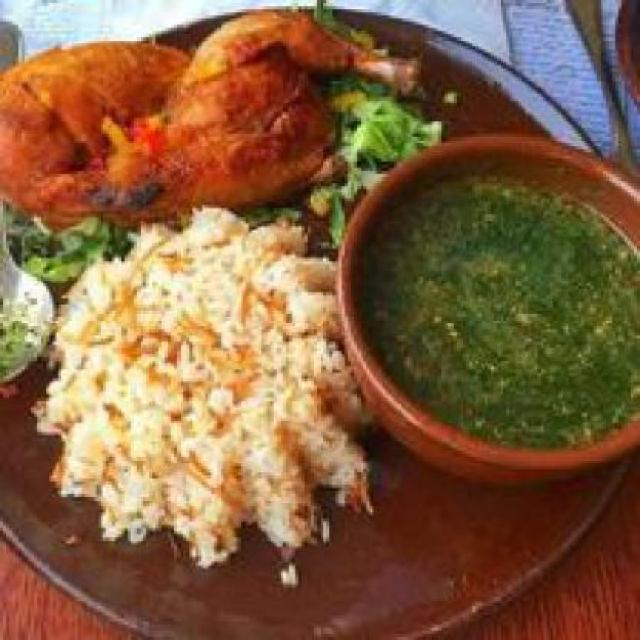fried rice: (41, 215, 370, 559)
molokhia: (360, 147, 637, 476)
